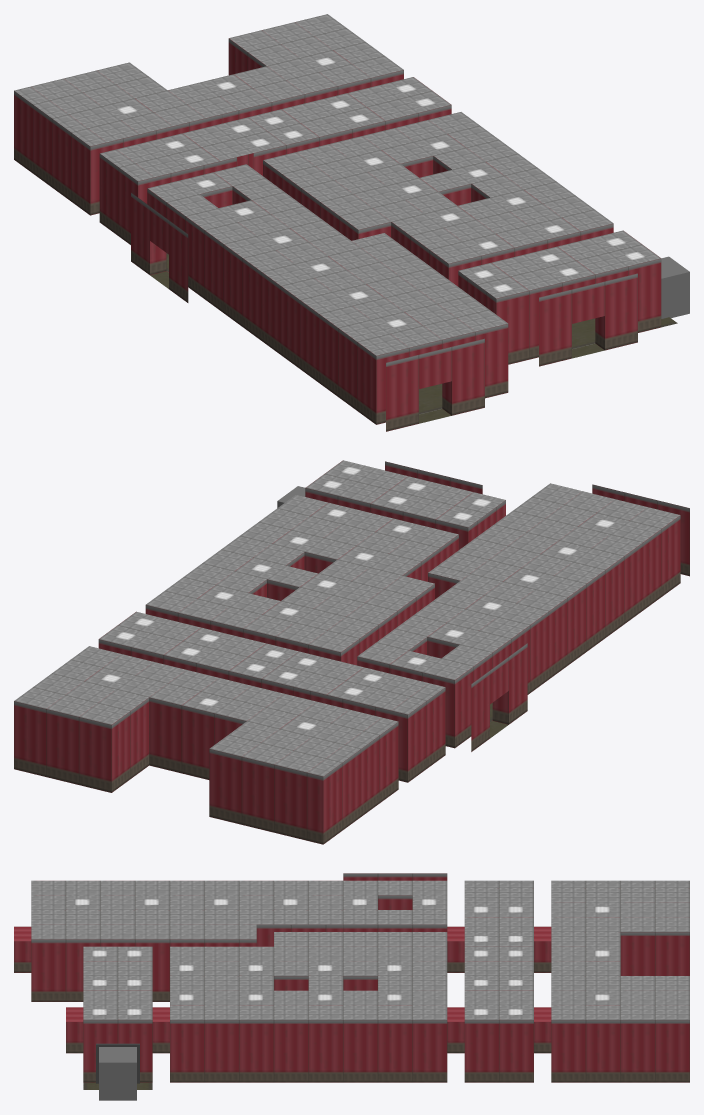
The model's file is DeathFloorModelsPack1.ver2.fbx.
The picture shows the model from 3 angles, top to bottom: view 1: azimuth 30°, elevation 25°; view 2: azimuth 150°, elevation 25°; view 3: azimuth 270°, elevation 25°; orthographic projection. The views are drawn at different scales.
Visible parts, largest first — view 1: A_LongOffice, A_WorkOfficeCeil, A_LongOfficeCeil, A_LeasureRoomCeil, A_Entrance, A_CorridorCeil, A_LeasureRoom, A_EntranceCeil, A_WorkOffice, A_Corridor, ElevatorMain; view 2: A_LeasureRoom, A_WorkOfficeCeil, A_LongOfficeCeil, A_LongOffice, A_LeasureRoomCeil, A_CorridorCeil, A_Corridor, A_EntranceCeil, A_WorkOffice, A_Entrance; view 3: A_WorkOfficeCeil, A_LongOfficeCeil, A_WorkOffice, A_LeasureRoomCeil, A_LeasureRoom, A_LongOffice, A_CorridorCeil, A_EntranceCeil, A_Entrance, A_Corridor, ElevatorMain.
Boxes of the visible parts, x1,y1,x2,y2 form: A_LongOffice: (131, 186, 508, 431); A_WorkOfficeCeil: (263, 112, 613, 263); A_LongOfficeCeil: (148, 164, 507, 355); A_LeasureRoomCeil: (14, 14, 403, 146); A_Entrance: (458, 258, 677, 366); A_CorridorCeil: (100, 77, 451, 181); A_LeasureRoom: (14, 38, 403, 215); A_EntranceCeil: (458, 230, 660, 298); A_WorkOffice: (263, 156, 613, 286); A_Corridor: (99, 105, 451, 244); ElevatorMain: (661, 256, 689, 318); A_LeasureRoom: (14, 697, 398, 844); A_WorkOfficeCeil: (146, 494, 458, 652); A_LongOfficeCeil: (357, 483, 680, 679); A_LongOffice: (357, 484, 689, 751); A_LeasureRoomCeil: (14, 646, 398, 776); A_CorridorCeil: (99, 611, 445, 714); A_Corridor: (98, 639, 445, 782); A_EntranceCeil: (305, 460, 505, 527); A_WorkOffice: (145, 534, 458, 665); A_Entrance: (305, 461, 505, 549); A_WorkOfficeCeil: (170, 932, 447, 1019); A_LongOfficeCeil: (31, 880, 447, 939); A_WorkOffice: (170, 976, 464, 1082); A_LeasureRoomCeil: (551, 880, 689, 1019); A_LeasureRoom: (534, 926, 689, 1082); A_LongOffice: (14, 873, 464, 1001); A_CorridorCeil: (464, 880, 533, 1019); A_EntranceCeil: (83, 946, 152, 1019); A_Entrance: (66, 1007, 169, 1089); A_Corridor: (464, 1020, 533, 1082); ElevatorMain: (96, 1043, 139, 1100).
Size of what is drawn, in the model's own units: 22.25 by 4.1 by 39.
